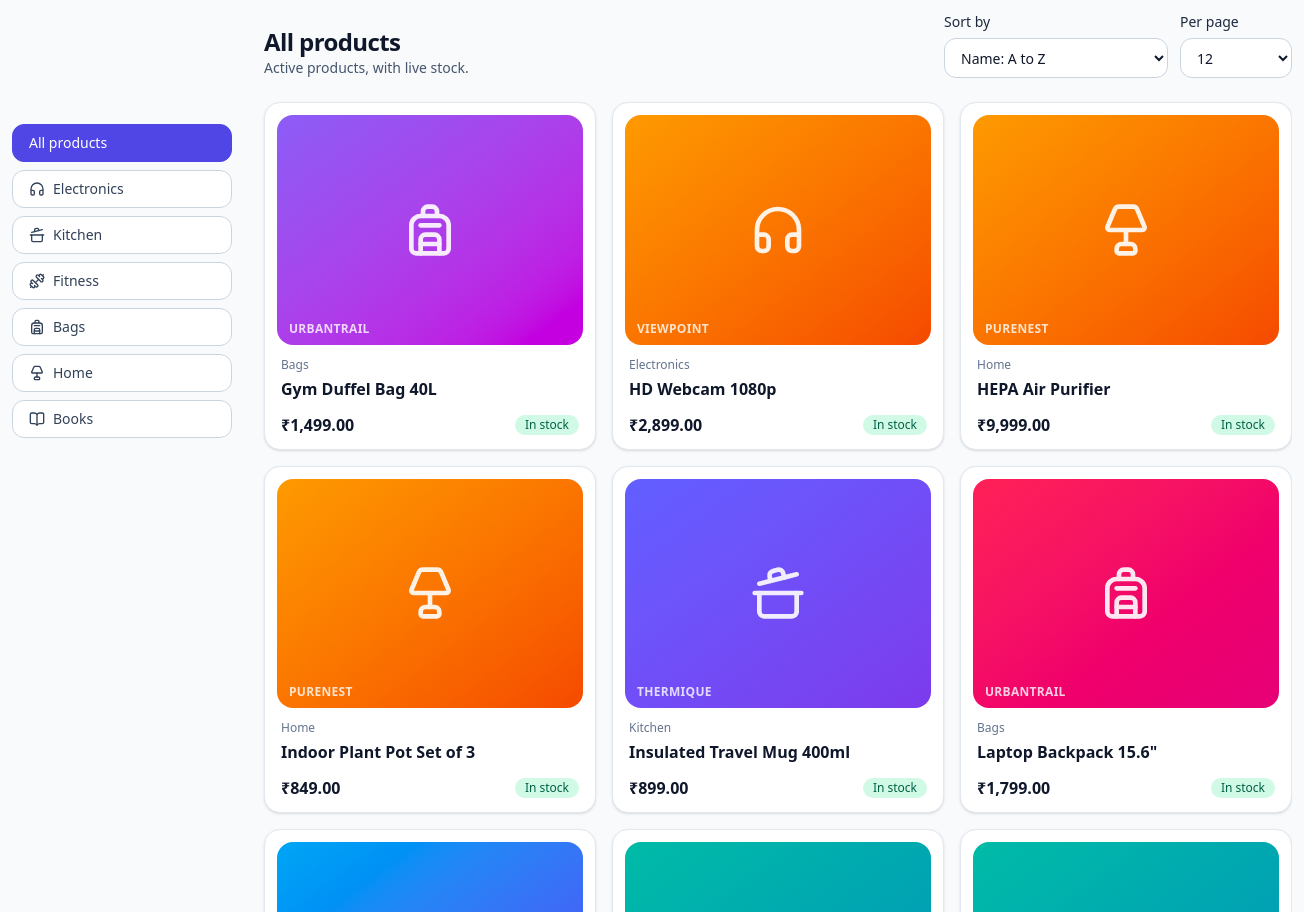
Test case: CataloguePage › puts a changed filter into the URL and goes back to page 1
Step 1. Click the button "Books" → (122, 419), box [12,400,232,438]
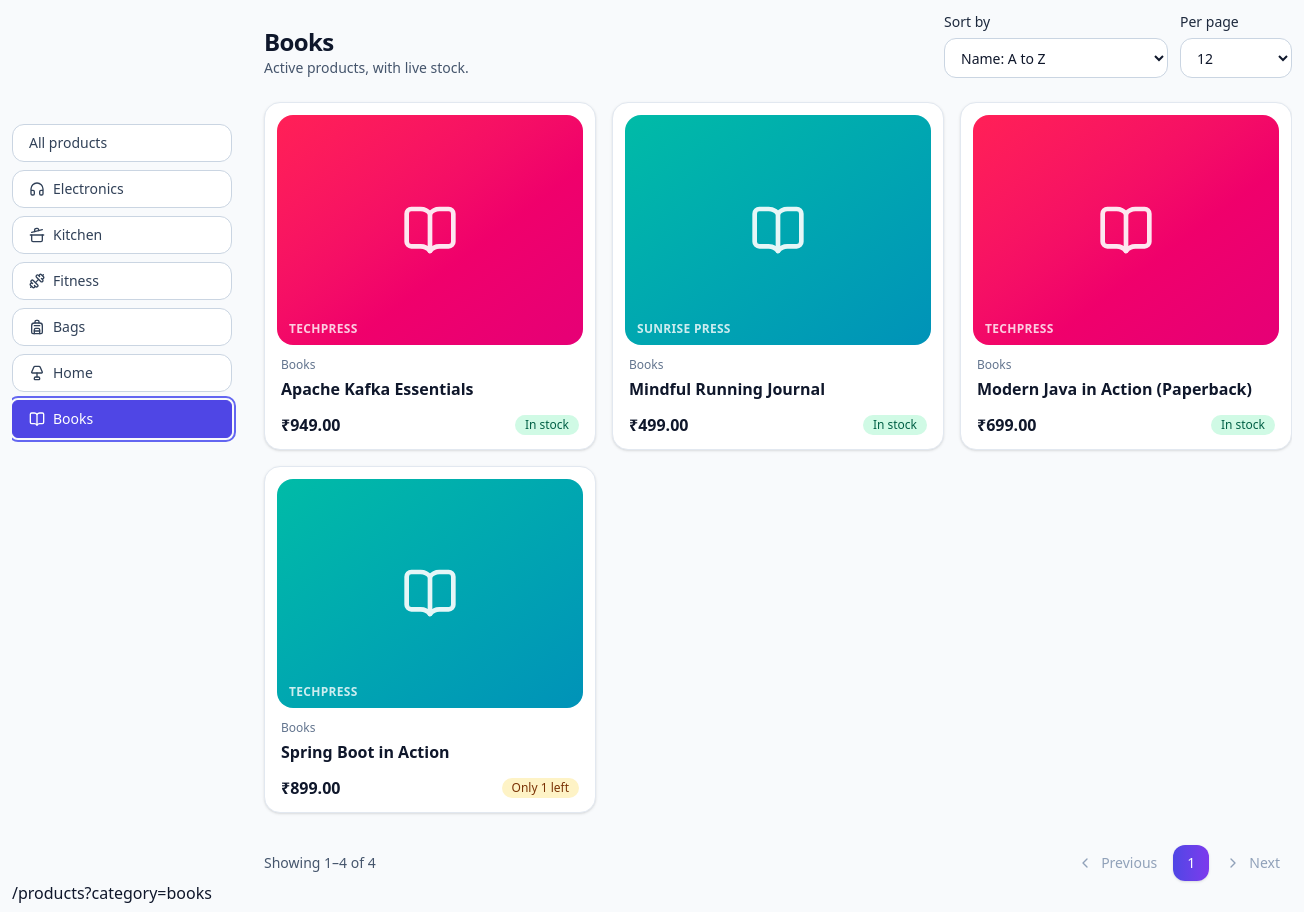
Now the text with test id "location" reads "/products?category=books", box [12,882,212,904]
